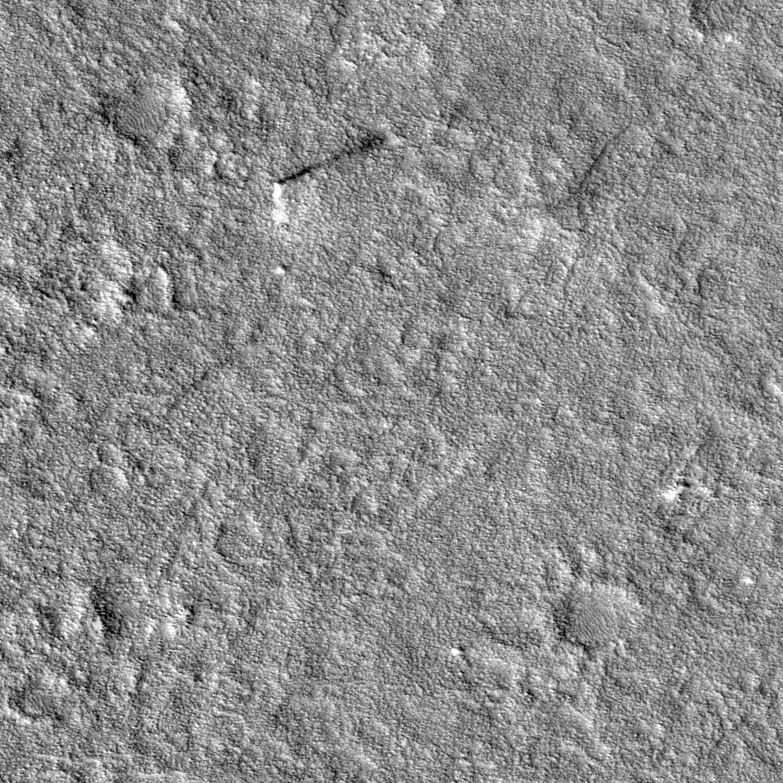dust_devil: (268, 127, 391, 226)
